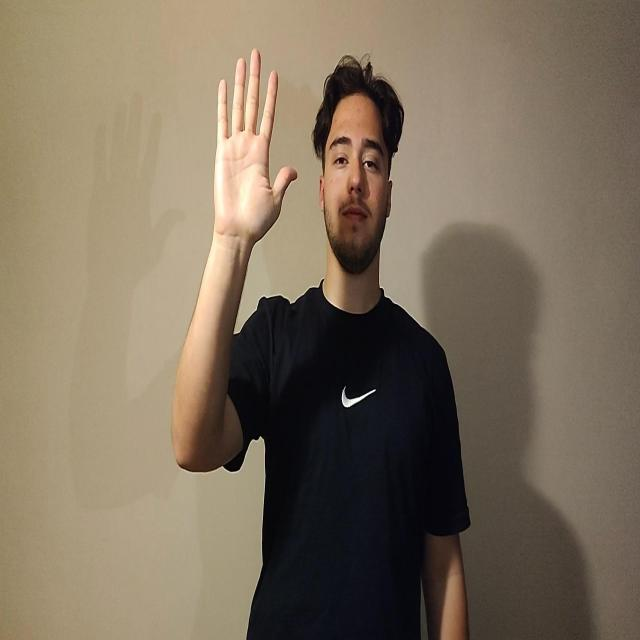hello: (212, 47, 298, 247)
